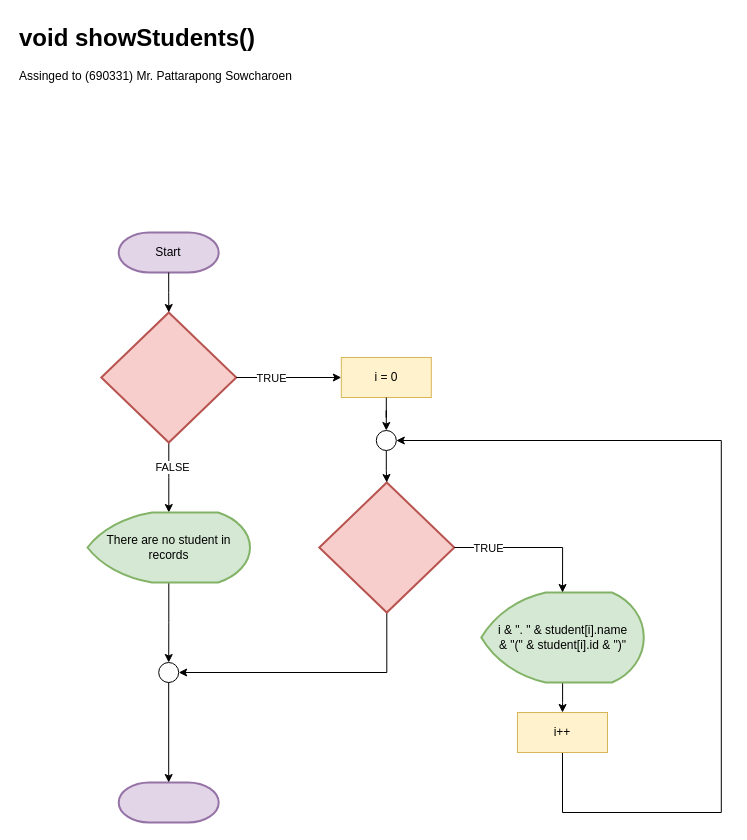
Image size: 747x840. Some labels were removed from this diagram. The centre of each missing label's shape, as x and y in pixels:
i <= studentCount: (x=386, y=547)
Stop: (x=168, y=802)
studentCount > 0: (x=168, y=377)
